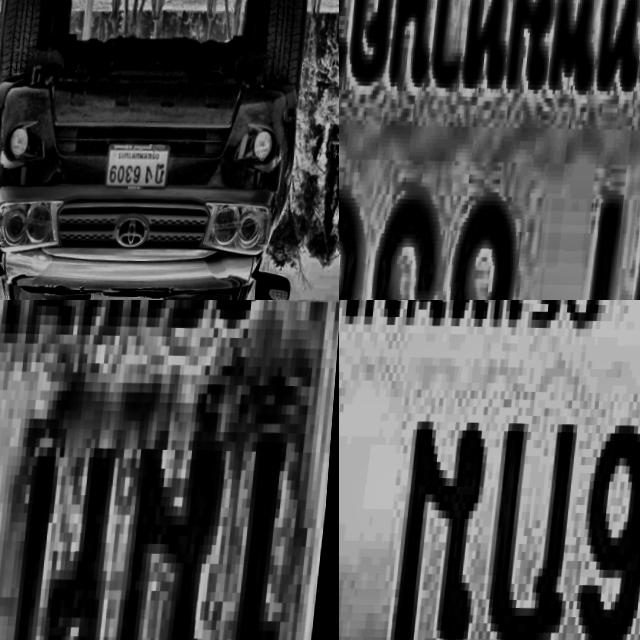license-plate: (0, 300, 339, 640), (339, 300, 640, 640), (339, 0, 640, 300), (106, 140, 175, 191)
